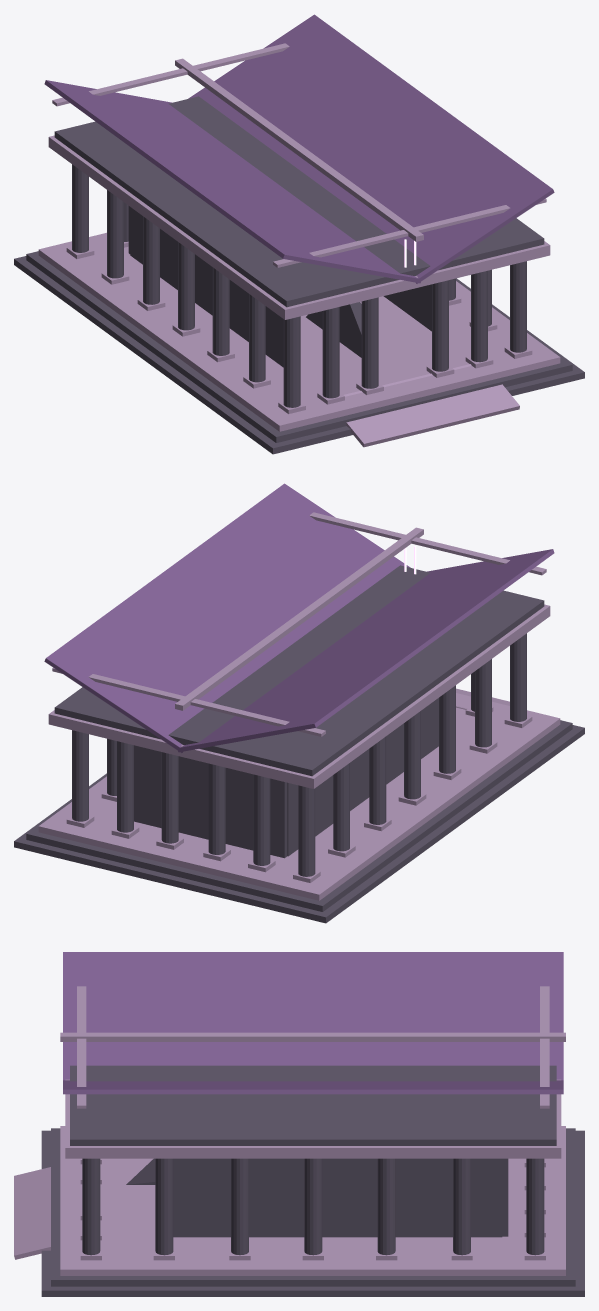
File: temple_hades.glb
The picture shows the model from 3 angles, top to bottom: view 1: azimuth 30°, elevation 25°; view 2: azimuth 150°, elevation 25°; view 3: azimuth 270°, elevation 25°; orthographic projection. The views are drawn at different scales.
Visible parts, largest first — view 1: Temple_Hades; view 2: Temple_Hades; view 3: Temple_Hades.
Boxes of the visible parts, x1,y1,x2,y2 form: Temple_Hades: (14,14,584,454); Temple_Hades: (14,483,584,923); Temple_Hades: (14,952,584,1296).
Size of the model in its own units: 16 by 9.3 by 24.17.
